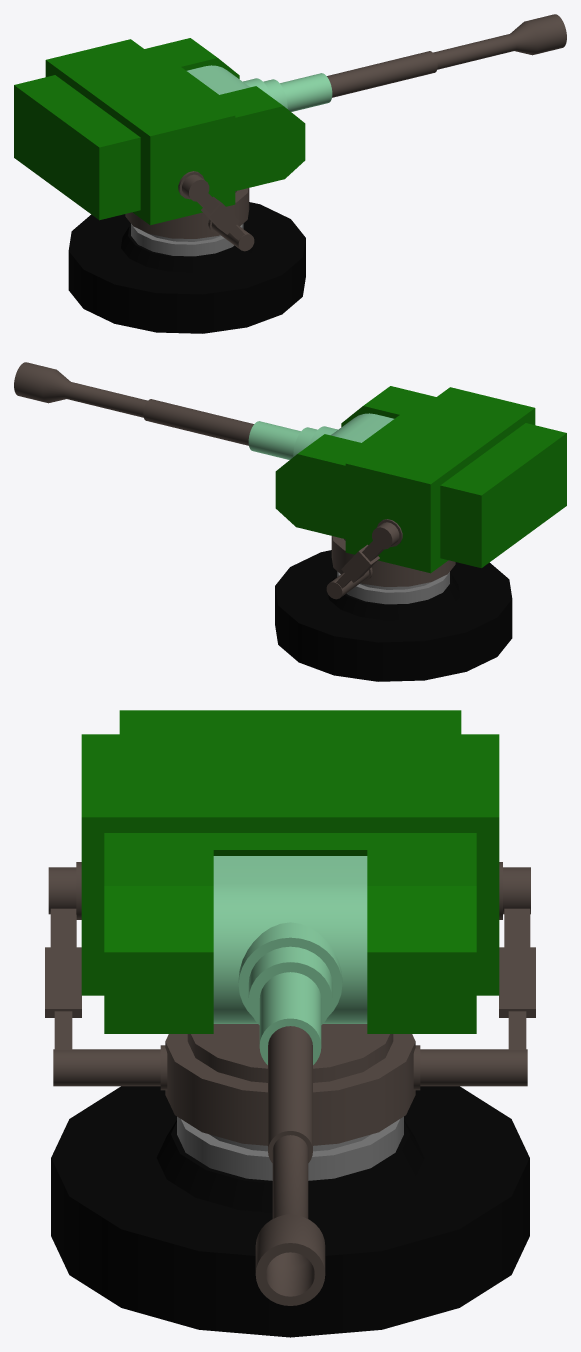
The model's file is support3_1.fbx.
3 renders of one model, top to bottom at view 1: azimuth 30°, elevation 25°; view 2: azimuth 150°, elevation 25°; view 3: azimuth 270°, elevation 25°, orthographic. The views are drawn at different scales.
Visible parts, largest first — view 1: Cube.031, Cylinder.036, Cylinder.016, Cylinder.011, Cylinder.014, Cylinder.010, Cylinder.015, Cube.030, Cylinder.013, Cylinder.012; view 2: Cube.031, Cylinder.036, Cylinder.016, Cylinder.011, Cylinder.014, Cylinder.010, Cylinder.015, Cube.030, Cylinder.013, Cylinder.012; view 3: Cube.031, Cylinder.036, Cylinder.011, Cylinder.015, Cylinder.016, Cylinder.014, Cylinder.012, Cube.030, Cylinder.010, Cylinder.013.
Part boxes in pixels (bbox=[...]): Cube.031: bbox=[14, 38, 305, 225]; Cylinder.036: bbox=[68, 202, 305, 333]; Cylinder.016: bbox=[327, 14, 566, 97]; Cylinder.011: bbox=[125, 188, 249, 238]; Cylinder.014: bbox=[243, 73, 332, 111]; Cylinder.010: bbox=[131, 223, 243, 256]; Cylinder.015: bbox=[187, 65, 249, 94]; Cube.030: bbox=[197, 193, 244, 240]; Cylinder.013: bbox=[178, 171, 209, 201]; Cylinder.012: bbox=[208, 219, 254, 251]; Cube.031: bbox=[275, 386, 566, 573]; Cylinder.036: bbox=[275, 550, 512, 681]; Cylinder.016: bbox=[14, 362, 253, 445]; Cylinder.011: bbox=[331, 536, 455, 586]; Cylinder.014: bbox=[248, 421, 337, 459]; Cylinder.010: bbox=[337, 571, 449, 604]; Cylinder.015: bbox=[331, 413, 393, 442]; Cube.030: bbox=[336, 541, 383, 588]; Cylinder.013: bbox=[372, 519, 402, 549]; Cylinder.012: bbox=[326, 567, 372, 599]; Cube.031: bbox=[81, 710, 499, 1033]; Cylinder.036: bbox=[51, 1086, 529, 1337]; Cylinder.011: bbox=[165, 1024, 415, 1145]; Cylinder.015: bbox=[213, 856, 367, 1023]; Cylinder.016: bbox=[255, 1026, 325, 1305]; Cylinder.014: bbox=[238, 922, 342, 1064]; Cylinder.012: bbox=[53, 1045, 527, 1090]; Cube.030: bbox=[45, 908, 535, 1050]; Cylinder.010: bbox=[177, 1116, 403, 1180]; Cylinder.013: bbox=[48, 862, 530, 919].
Size of the model in its own units: 936 by 370 by 396.
